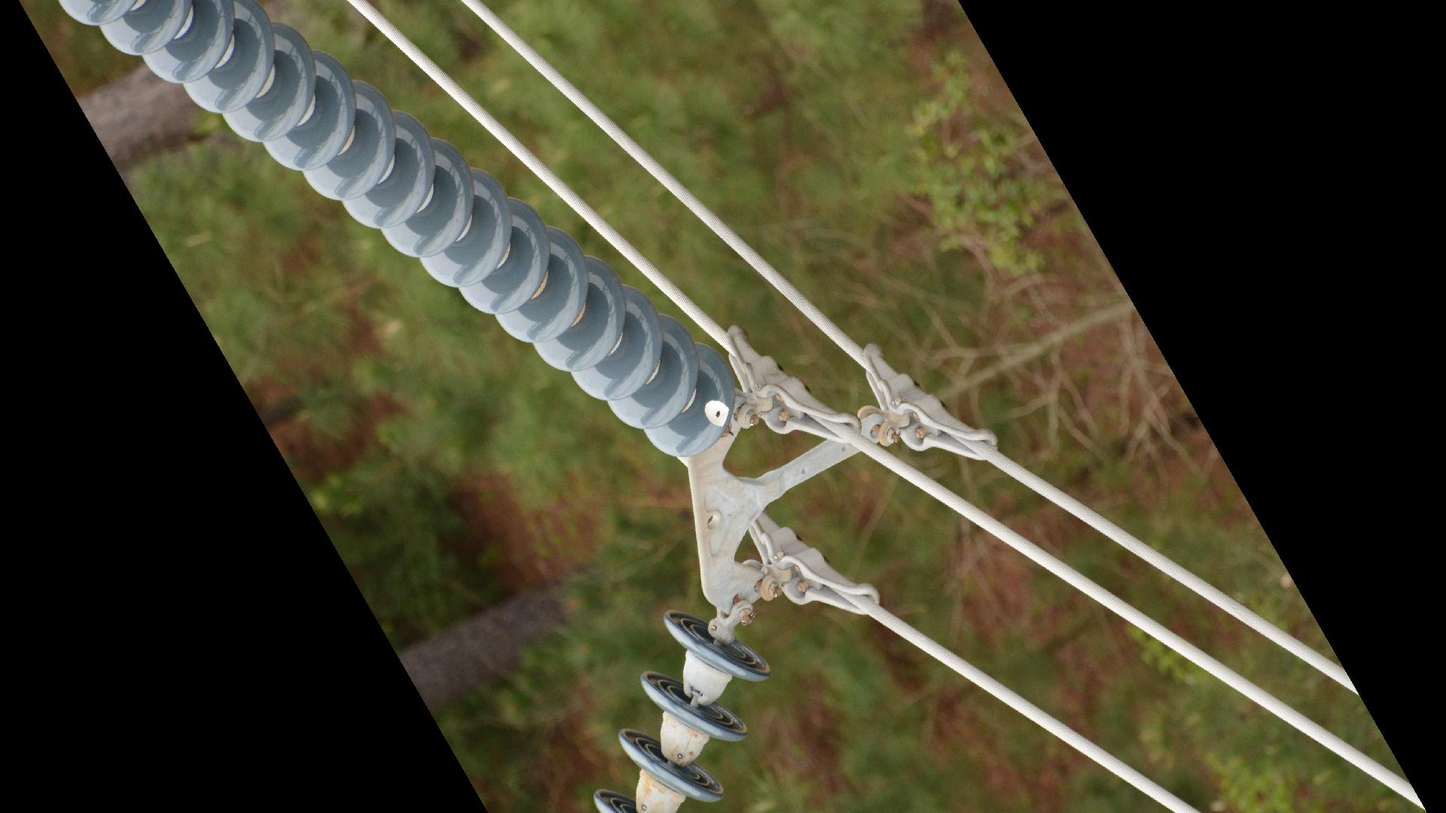insulator: (53, 1, 743, 467), (587, 602, 777, 813)
insulator_breakage: (697, 388, 735, 436)
